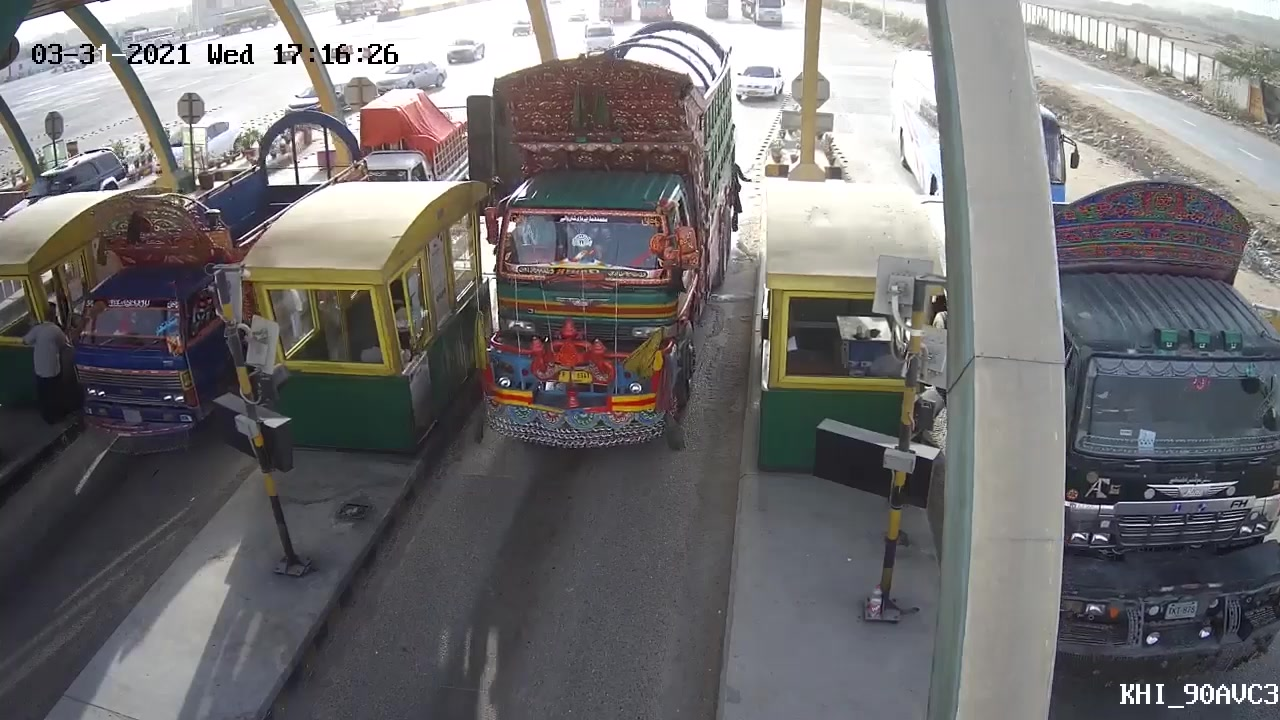F5: (459, 20, 749, 470)
